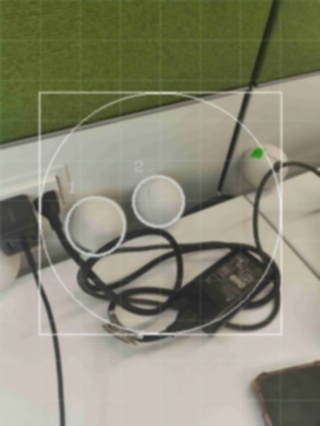Pelota blanca: (252, 361, 320, 425), (63, 193, 126, 256), (129, 174, 185, 230), (239, 142, 283, 192)
Pelota negra: (249, 363, 320, 425)
